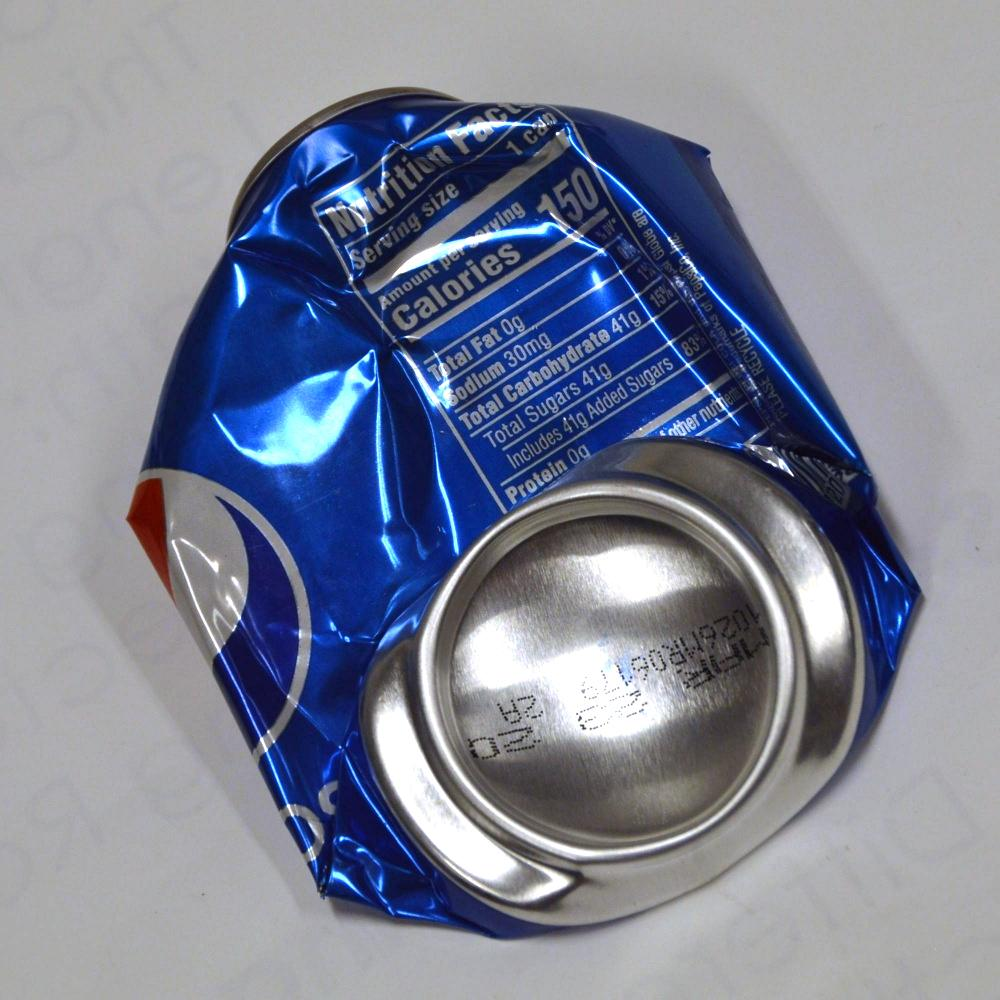Metal: (123, 70, 860, 893)
